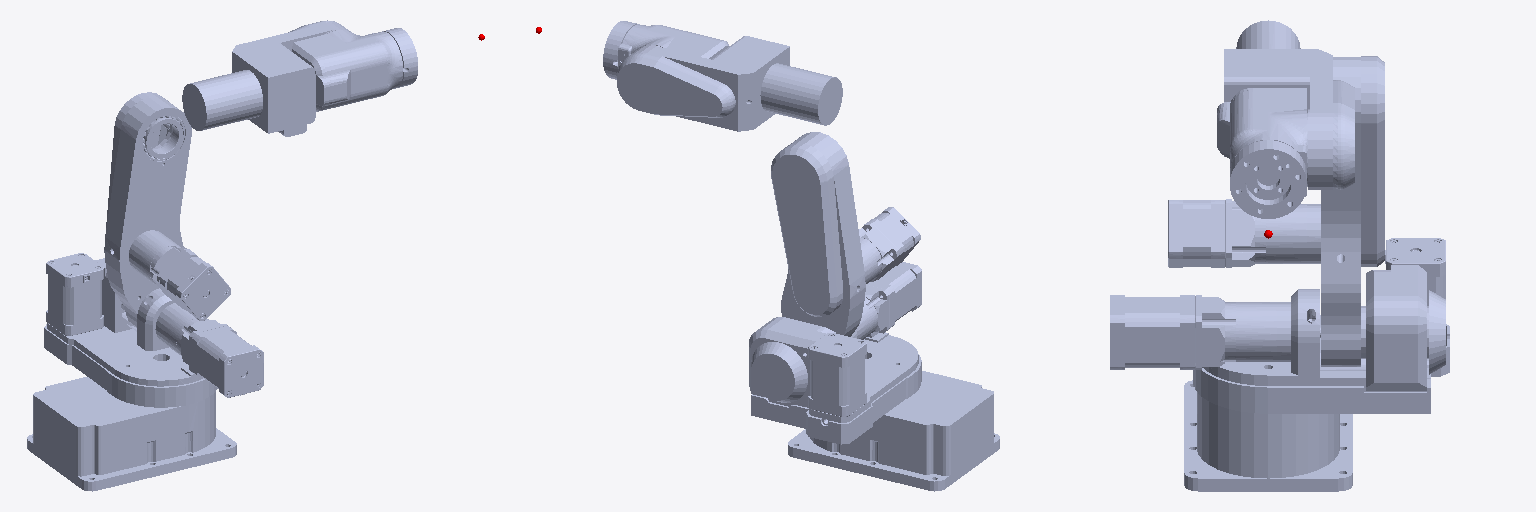
URDF robot description (PAR6_MSG):
<?xml version="1.0" encoding="utf-8"?>
<!-- This URDF was automatically created by SolidWorks to URDF Exporter! Originally created by Stephen Brawner (brawner@gmail.com) 
     Commit Version: 1.6.0-4-g7f85cfe  Build Version: 1.6.7995.38578
     For more information, please see http://wiki.ros.org/sw_urdf_exporter -->
<robot
  name="PAR6_MSG">
  <link
    name="base_link">
    <inertial>
      <origin
        xyz="-0.032918423627964 -3.97602362145477E-09 0.0314011608034138"
        rpy="0 0 0" />
      <mass
        value="0.998265338800333" />
      <inertia
        ixx="0.00118949401625524"
        ixy="-3.53594550153641E-12"
        ixz="-5.94924049151937E-05"
        iyy="0.00238159101024826"
        iyz="-6.16822652198136E-11"
        izz="0.00282485466366564" />
    </inertial>
    <visual>
      <origin
        xyz="0 0 0"
        rpy="0 0 0" />
      <geometry>
        <mesh
          filename="package://par6_msg_gripper/meshes/base_link.STL" />
      </geometry>
      <material
        name="">
        <color
          rgba="0.792156862745098 0.819607843137255 0.933333333333333 1" />
      </material>
    </visual>
    <collision>
      <origin
        xyz="0 0 0"
        rpy="0 0 0" />
      <geometry>
        <mesh
          filename="package://par6_msg_gripper/meshes/base_link.STL" />
      </geometry>
    </collision>
  </link>
  <link
    name="shoulder">
    <inertial>
      <origin
        xyz="0.00656811939880825 0.0290935389673309 0.099551347543145"
        rpy="0 0 0" />
      <mass
        value="0.620900499130961" />
      <inertia
        ixx="0.00100663738746705"
        ixy="-6.26580888440262E-05"
        ixz="-5.94906456216177E-05"
        iyy="0.000546947368013689"
        iyz="-0.000133114961306643"
        izz="0.00119083362934585" />
    </inertial>
    <visual>
      <origin
        xyz="0 0 0"
        rpy="0 0 0" />
      <geometry>
        <mesh
          filename="package://par6_msg_gripper/meshes/shoulder.STL" />
      </geometry>
      <material
        name="">
        <color
          rgba="0.792156862745098 0.819607843137255 0.933333333333333 1" />
      </material>
    </visual>
    <collision>
      <origin
        xyz="0 0 0"
        rpy="0 0 0" />
      <geometry>
        <mesh
          filename="package://par6_msg_gripper/meshes/shoulder.STL" />
      </geometry>
    </collision>
  </link>
  <joint
    name="shoulder_JOINT"
    type="revolute">
    <origin
      xyz="0 0 0"
      rpy="0 0 0" />
    <parent
      link="base_link" />
    <child
      link="shoulder" />
    <axis
      xyz="0 0 -1" />
    <limit
      lower="0"
      upper="0"
      effort="0"
      velocity="0" />
  </joint>
  <link
    name="upper_arm">
    <inertial>
      <origin
        xyz="-0.00854934366236779 -0.0713421424494267 0.0416391335881903"
        rpy="0 0 0" />
      <mass
        value="0.564255649327409" />
      <inertia
        ixx="0.00161401505877108"
        ixy="-2.3762413487102E-05"
        ixz="-1.23771305810395E-05"
        iyy="0.000283296701166046"
        iyz="-0.000134635985563592"
        izz="0.00163917151493148" />
    </inertial>
    <visual>
      <origin
        xyz="0 0 0"
        rpy="0 0 0" />
      <geometry>
        <mesh
          filename="package://par6_msg_gripper/meshes/upper_arm.STL" />
      </geometry>
      <material
        name="">
        <color
          rgba="0.792156862745098 0.819607843137255 0.933333333333333 1" />
      </material>
    </visual>
    <collision>
      <origin
        xyz="0 0 0"
        rpy="0 0 0" />
      <geometry>
        <mesh
          filename="package://par6_msg_gripper/meshes/upper_arm.STL" />
      </geometry>
    </collision>
  </link>
  <joint
    name="upper_arm_JOINT"
    type="revolute">
    <origin
      xyz="0.023421 0 0.1105"
      rpy="-1.5708 0 0" />
    <parent
      link="shoulder" />
    <child
      link="upper_arm" />
    <axis
      xyz="0 0 1" />
    <limit
      lower="0"
      upper="0"
      effort="0"
      velocity="0" />
  </joint>
  <link
    name="elbow">
    <inertial>
      <origin
        xyz="0.0155509885239591 -0.0191127686426609 -0.00153322577917109"
        rpy="0 0 0" />
      <mass
        value="0.550970997806043" />
      <inertia
        ixx="0.00057827573271994"
        ixy="0.000116505232322314"
        ixz="-1.19955293256511E-05"
        iyy="0.000567011676944701"
        iyz="1.55814255036018E-05"
        izz="0.000815862001506842" />
    </inertial>
    <visual>
      <origin
        xyz="0 0 0"
        rpy="0 0 0" />
      <geometry>
        <mesh
          filename="package://par6_msg_gripper/meshes/elbow.STL" />
      </geometry>
      <material
        name="">
        <color
          rgba="0.792156862745098 0.819607843137255 0.933333333333333 1" />
      </material>
    </visual>
    <collision>
      <origin
        xyz="0 0 0"
        rpy="0 0 0" />
      <geometry>
        <mesh
          filename="package://par6_msg_gripper/meshes/elbow.STL" />
      </geometry>
    </collision>
  </link>
  <joint
    name="elbow_JOINT"
    type="revolute">
    <origin
      xyz="0 -0.18 0"
      rpy="3.1416 0 -1.5708" />
    <parent
      link="upper_arm" />
    <child
      link="elbow" />
    <axis
      xyz="0 0 -1" />
    <limit
      lower="0"
      upper="0"
      effort="0"
      velocity="0" />
  </joint>
  <link
    name="lower_arm">
    <inertial>
      <origin
        xyz="0.000527335454629185 -0.0101658497051326 -0.0925926618710919"
        rpy="0 0 0" />
      <mass
        value="0.382768168076152" />
      <inertia
        ixx="0.000383809752758758"
        ixy="-5.71777005742458E-06"
        ixz="-1.13435862343122E-06"
        iyy="0.000324613577491975"
        iyz="-6.4819470273156E-05"
        izz="0.000252488975982478" />
    </inertial>
    <visual>
      <origin
        xyz="0 0 0"
        rpy="0 0 0" />
      <geometry>
        <mesh
          filename="package://par6_msg_gripper/meshes/lower_arm.STL" />
      </geometry>
      <material
        name="">
        <color
          rgba="0.792156862745098 0.819607843137255 0.933333333333333 1" />
      </material>
    </visual>
    <collision>
      <origin
        xyz="0 0 0"
        rpy="0 0 0" />
      <geometry>
        <mesh
          filename="package://par6_msg_gripper/meshes/lower_arm.STL" />
      </geometry>
    </collision>
  </link>
  <joint
    name="lower_arm_JOINT"
    type="revolute">
    <origin
      xyz="0.0435 0 0"
      rpy="1.5708 0 -3.1416" />
    <parent
      link="elbow" />
    <child
      link="lower_arm" />
    <axis
      xyz="0 0 -1" />
    <limit
      lower="0"
      upper="0"
      effort="0"
      velocity="0" />
  </joint>
  <link
    name="wrist">
    <inertial>
      <origin
        xyz="-1.54606600299978E-06 -0.00314847566621398 0.000193929742576537"
        rpy="0 0 0" />
      <mass
        value="0.230864625594321" />
      <inertia
        ixx="0.000180829695434151"
        ixy="-4.63392548736093E-10"
        ixz="-6.79284338617228E-09"
        iyy="0.000106212288444716"
        iyz="2.87958450952461E-06"
        izz="0.000175598200731164" />
    </inertial>
    <visual>
      <origin
        xyz="0 0 0"
        rpy="0 0 0" />
      <geometry>
        <mesh
          filename="package://par6_msg_gripper/meshes/wrist.STL" />
      </geometry>
      <material
        name="">
        <color
          rgba="0.792156862745098 0.819607843137255 0.933333333333333 1" />
      </material>
    </visual>
    <collision>
      <origin
        xyz="0 0 0"
        rpy="0 0 0" />
      <geometry>
        <mesh
          filename="package://par6_msg_gripper/meshes/wrist.STL" />
      </geometry>
    </collision>
  </link>
  <joint
    name="wrist_JOINT"
    type="revolute">
    <origin
      xyz="0 0 -0.176999999999995"
      rpy="-1.57079632679489 0 0" />
    <parent
      link="lower_arm" />
    <child
      link="wrist" />
    <axis
      xyz="0 0 1" />
    <limit
      lower="0"
      upper="0"
      effort="0"
      velocity="0" />
  </joint>
  <link
    name="gripper">
    <inertial>
      <origin
        xyz="-0.00642470048892474 0.000282668798476438 -0.0695192335056825"
        rpy="0 0 0" />
      <mass
        value="0.167623200457379" />
      <inertia
        ixx="0.000140871735417615"
        ixy="-9.82778432876683E-07"
        ixz="-2.72691487145471E-06"
        iyy="2.45392416247037E-05"
        iyz="-2.78909378823719E-07"
        izz="0.00013036472950858" />
    </inertial>
    <visual>
      <origin
        xyz="0 0 0"
        rpy="0 0 0" />
      <geometry>
        <mesh
          filename="package://par6_msg_gripper/meshes/gripper.STL" />
      </geometry>
      <material
        name="">
        <color
          rgba="0.792156862745098 0.819607843137255 0.933333333333333 1" />
      </material>
    </visual>
    <collision>
      <origin
        xyz="0 0 0"
        rpy="0 0 0" />
      <geometry>
        <mesh
          filename="package://par6_msg_gripper/meshes/gripper.STL" />
      </geometry>
    </collision>
  </link>
  <joint
    name="gripper_JOINT"
    type="revolute">
    <origin
      xyz="0 0 0"
      rpy="1.5708 0 0" />
    <parent
      link="wrist" />
    <child
      link="gripper" />
    <axis
      xyz="0 0 -1" />
    <limit
      lower="0"
      upper="0"
      effort="0"
      velocity="0" />
  </joint>
  <link
    name="jaw1">
    <inertial>
      <origin
        xyz="0.000317390129572659 -0.0636011550113124 -0.0505219142777576"
        rpy="0 0 0" />
      <mass
        value="0.0267240448883812" />
      <inertia
        ixx="1.05776518737304E-05"
        ixy="4.17466317108795E-08"
        ixz="-4.94412707881078E-07"
        iyy="1.02820791329259E-05"
        iyz="5.30501392593403E-07"
        izz="1.56447936575552E-06" />
    </inertial>
    <visual>
      <origin
        xyz="0 0 0"
        rpy="0 0 0" />
      <geometry>
        <mesh
          filename="package://par6_msg_gripper/meshes/jaw1.STL" />
      </geometry>
      <material
        name="">
        <color
          rgba="0.29804 0.29804 0.29804 1" />
      </material>
    </visual>
    <collision>
      <origin
        xyz="0 0 0"
        rpy="0 0 0" />
      <geometry>
        <mesh
          filename="package://par6_msg_gripper/meshes/jaw1.STL" />
      </geometry>
    </collision>
  </link>
  <joint
    name="joint_jaw1"
    type="prismatic">
    <origin
      xyz="0.02835 0 -0.1409"
      rpy="-3.1416 0 3.1416" />
    <parent
      link="gripper" />
    <child
      link="jaw1" />
    <axis
      xyz="0 -1 0" />
    <limit
      lower="0"
      upper="0"
      effort="0"
      velocity="0" />
  </joint>
  <link
    name="jaw2">
    <inertial>
      <origin
        xyz="0.000313277058697659 0.0636017321420815 -0.0494862901594326"
        rpy="0 0 0" />
      <mass
        value="0.0267245850480152" />
      <inertia
        ixx="1.05767573086608E-05"
        ixy="-4.18351972636844E-08"
        ixz="-7.32706121136976E-07"
        iyy="1.02816308296904E-05"
        iyz="-5.3239570329707E-07"
        izz="1.56361148863754E-06" />
    </inertial>
    <visual>
      <origin
        xyz="0 0 0"
        rpy="0 0 0" />
      <geometry>
        <mesh
          filename="package://par6_msg_gripper/meshes/jaw2.STL" />
      </geometry>
      <material
        name="">
        <color
          rgba="0.29804 0.29804 0.29804 1" />
      </material>
    </visual>
    <collision>
      <origin
        xyz="0 0 0"
        rpy="0 0 0" />
      <geometry>
        <mesh
          filename="package://par6_msg_gripper/meshes/jaw2.STL" />
      </geometry>
    </collision>
  </link>
  <joint
    name="joint_jaw2" type="prismatic">
    <mimic joint="joint_jaw1" multiplier="-1" offset="0"/>
    <origin
      xyz="0.02835 0 -0.1409"
      rpy="-3.1416 0 3.1416" />
    <parent
      link="gripper" />
    <child
      link="jaw2" />
    <axis
      xyz="0 -1 0" />
    <limit
      lower="0"
      upper="0"
      effort="0"
      velocity="0" />
  </joint>

  <link name="tcp">
    <visual>
      <origin xyz="0 0 0" rpy="0 0 0"/>
      <geometry>
        <sphere radius="0.003"/>
      </geometry>
      <material name="red">
        <color rgba="1 0 0 1"/>
      </material>
    </visual>
  </link>

  <joint name="tcp_fixed_joint" type="fixed">
    <parent link="gripper"/>
    <child link="tcp"/>
    <!-- Adjust this to match your real grasp center -->
    <origin xyz="0 -0.0 -0.14" rpy="0 0 0"/>
  </joint>



<transmission name="gripper_transmission">
  <type>transmission_interface/SimpleTransmission</type>
  <joint name="gripper_JOINT">
    <hardwareInterface>PositionJointInterface</hardwareInterface>
  </joint>
  <actuator name="gripper_motor">
    <hardwareInterface>PositionJointInterface</hardwareInterface>
    <mechanicalReduction>1</mechanicalReduction>
  </actuator>
</transmission>

<transmission name="jaw_transmission">
  <type>transmission_interface/SimpleTransmission</type>
  <joint name="joint_jaw1">
    <hardwareInterface>PositionJointInterface</hardwareInterface>
  </joint>
  <actuator name="jaw_motor">
    <hardwareInterface>PositionJointInterface</hardwareInterface>
    <mechanicalReduction>1</mechanicalReduction>
  </actuator>
</transmission>

</robot>

--- Render facts (derived) ---
The picture shows the robot from 3 angles, left to right: view 1: azimuth 30°, elevation 25°; view 2: azimuth 150°, elevation 25°; view 3: azimuth 270°, elevation 25°; orthographic projection.
Robot: PAR6_MSG — 10 links, 9 joints (6 revolute, 2 prismatic, 1 fixed); root link base_link; default pose: all joints at 0.
Visible links, largest first — view 1: shoulder, upper_arm, base_link, lower_arm, wrist, gripper; view 2: upper_arm, shoulder, lower_arm, base_link, wrist, gripper; view 3: shoulder, upper_arm, base_link, lower_arm, wrist, gripper.
Boxes of the visible links, <box> form: shoulder: <box>44,253,263,407</box>; upper_arm: <box>104,92,230,327</box>; base_link: <box>27,377,236,491</box>; lower_arm: <box>182,20,350,136</box>; wrist: <box>292,30,402,111</box>; gripper: <box>384,28,417,87</box>; upper_arm: <box>751,132,920,402</box>; shoulder: <box>749,262,921,444</box>; lower_arm: <box>617,36,842,131</box>; base_link: <box>788,371,999,491</box>; wrist: <box>618,24,729,68</box>; gripper: <box>603,21,636,79</box>; shoulder: <box>1110,238,1449,413</box>; upper_arm: <box>1168,56,1445,374</box>; base_link: <box>1184,315,1352,491</box>; lower_arm: <box>1224,20,1354,189</box>; wrist: <box>1217,88,1306,196</box>; gripper: <box>1230,140,1306,218</box>.
Size in the robot's own frame: 0.4571 by 0.2382 by 0.3625 metres.
Meshes: 9 distinct files referenced, 6 mesh visuals loaded (6 binary STL); not drawn: 3 (reference not matched to a file when rendering).
